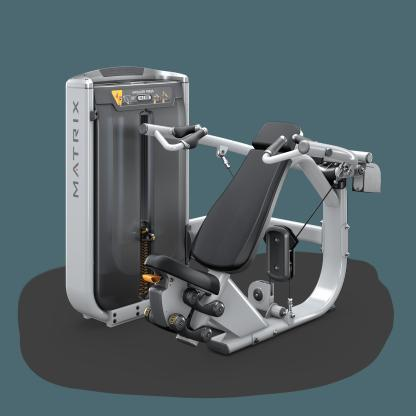shoulder press machine: (57, 51, 391, 362)
